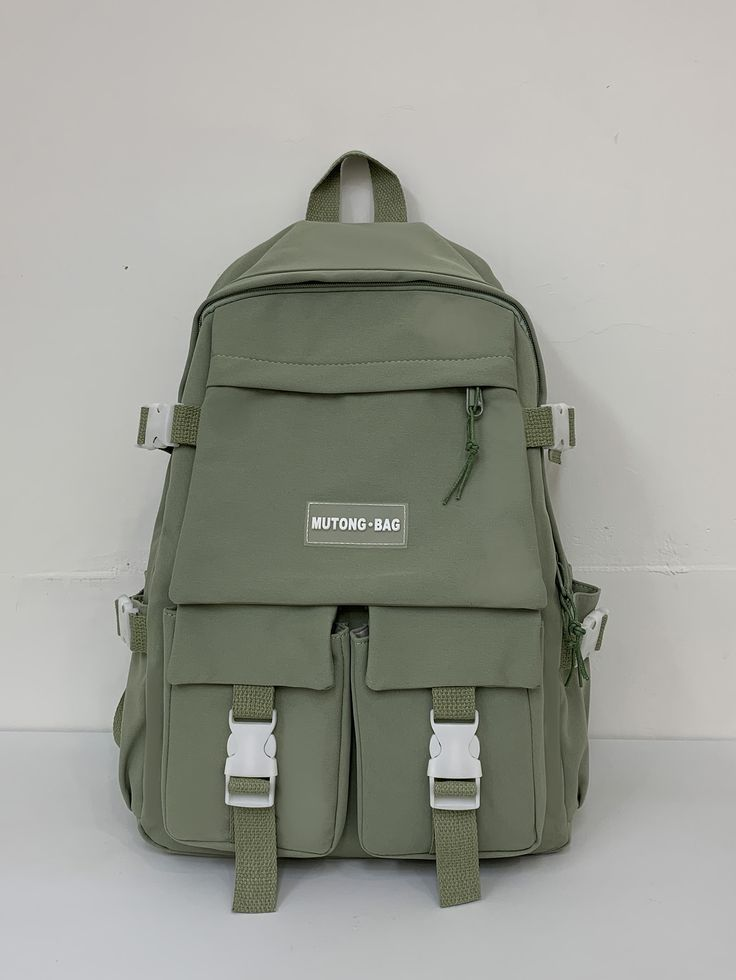nylon: (111, 150, 604, 916)
